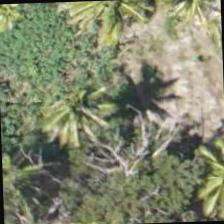Kelapa_Sawit: (27, 72, 120, 165), (176, 139, 223, 222), (156, 0, 222, 50)
